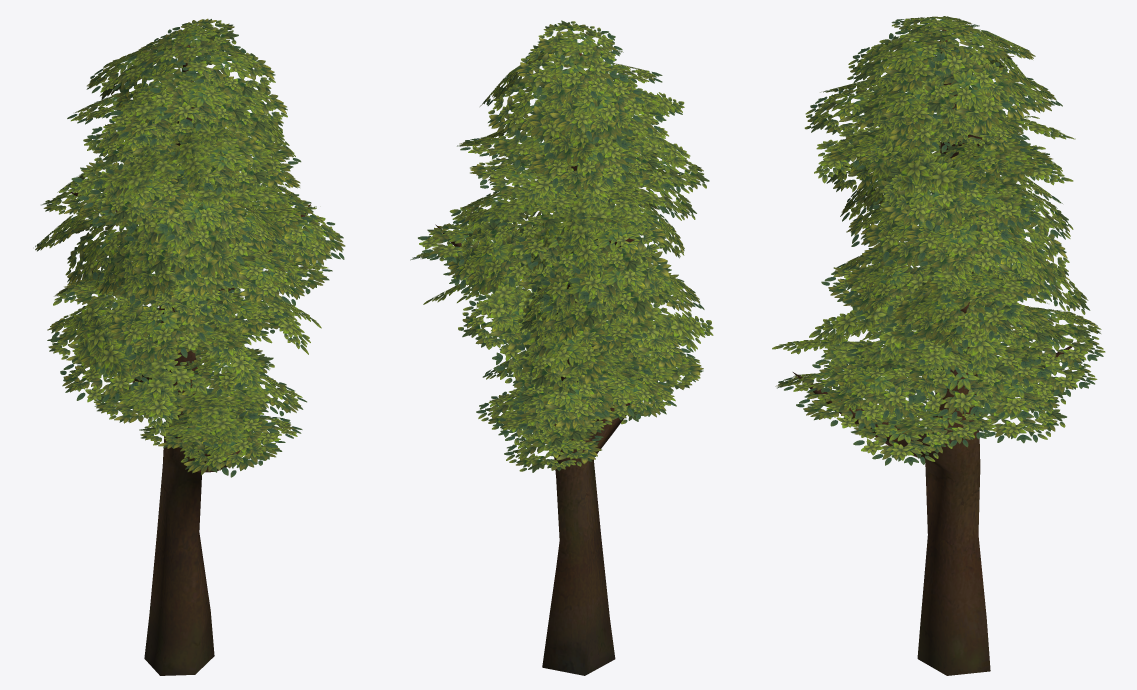
The model's file is SC_SLtree06.FBX.
3 views of the same model, side by side, from view 1: azimuth 30°, elevation 25°; view 2: azimuth 150°, elevation 25°; view 3: azimuth 270°, elevation 25° (orthographic). The views are drawn at different scales.
Parts seen in each view (by area): view 1: SC_SLtree06; view 2: SC_SLtree06; view 3: SC_SLtree06.
Part boxes in pixels (left/top/right/bottom): SC_SLtree06: left=35, top=18, right=345, bottom=675; SC_SLtree06: left=410, top=20, right=713, bottom=675; SC_SLtree06: left=772, top=16, right=1105, bottom=675.
Bounding box in the file's own units: 398 × 754 × 384.
